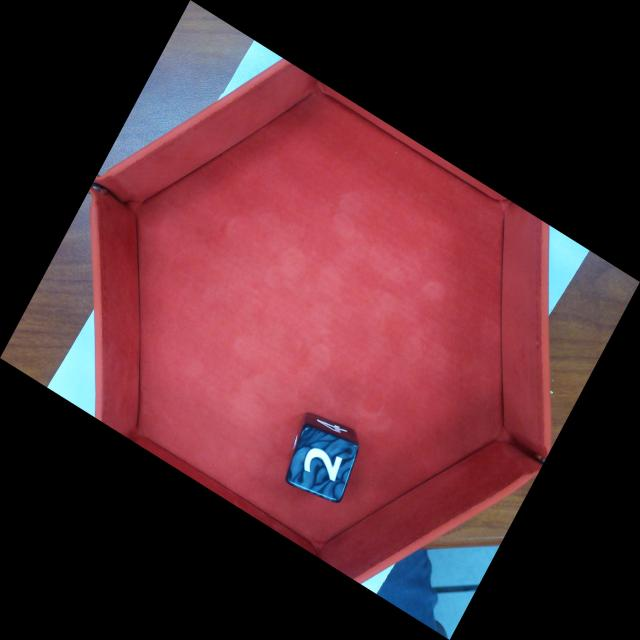dice: (282, 418, 363, 507)
